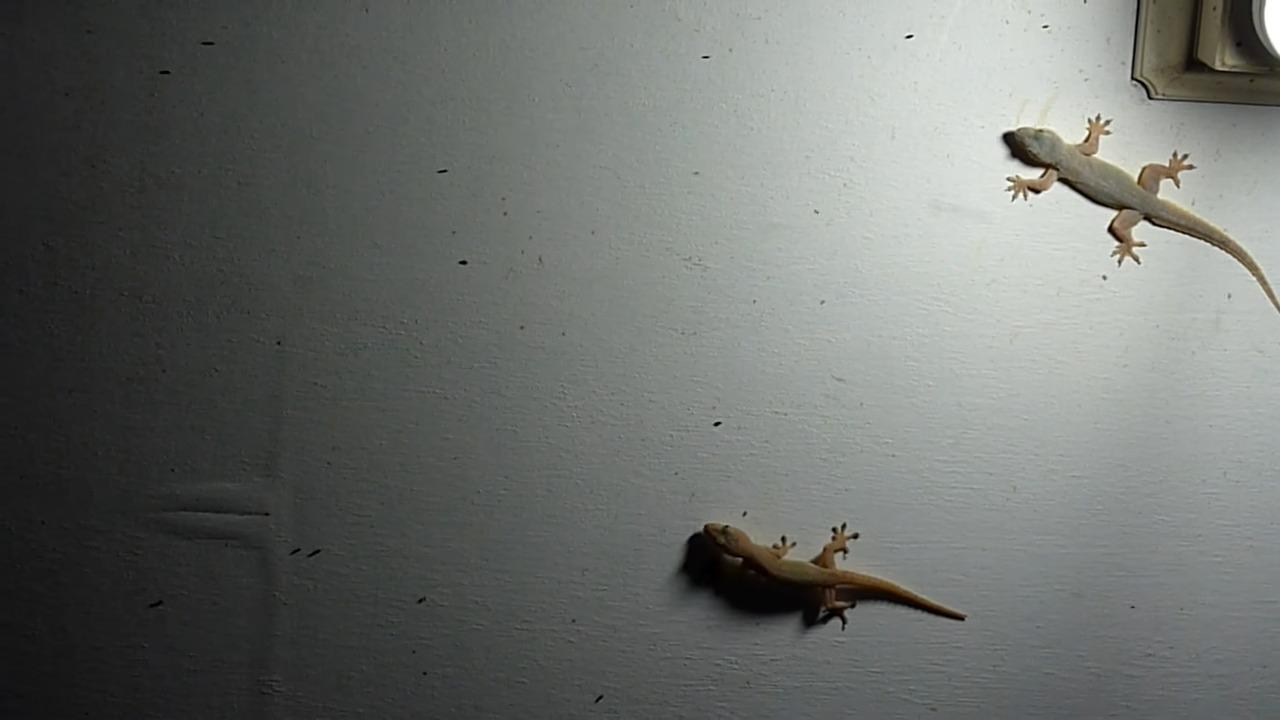lizard: (974, 104, 1280, 322), (680, 511, 1009, 648)
